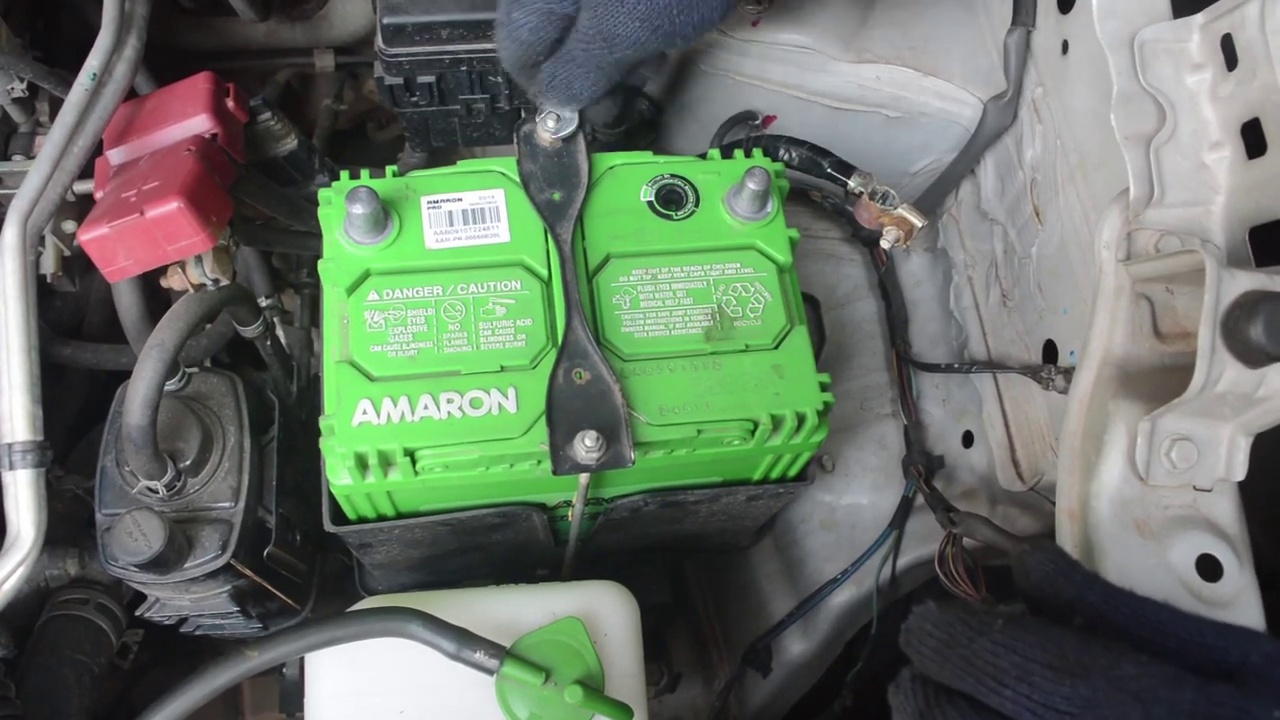battery: (310, 152, 812, 445)
neg_disconnected: (680, 142, 832, 249)
pos_disconnected: (88, 111, 412, 287)
